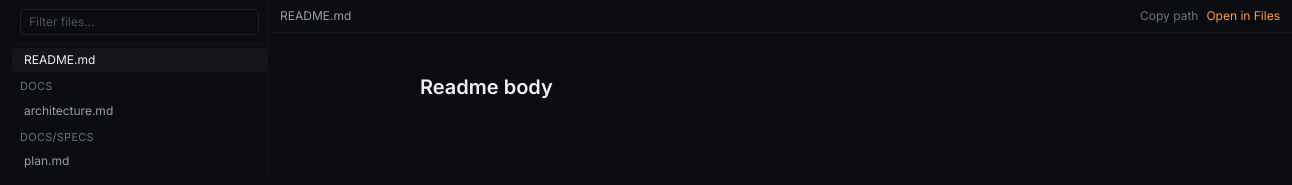
Test: KnowledgeBasePanel › marks folder headers with aria-expanded and a distinguishable accessible name
Check: the button "README.md" is shown, box [12, 48, 267, 72]
Click the button with aria-label "docs folder" at point(140, 86), box [12, 74, 267, 98]
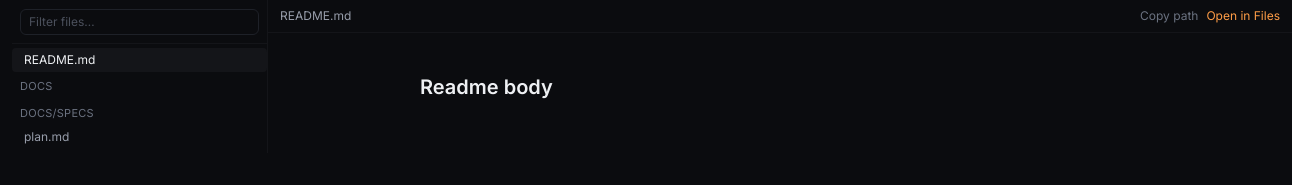
Check: the button "architecture.md" is gone
